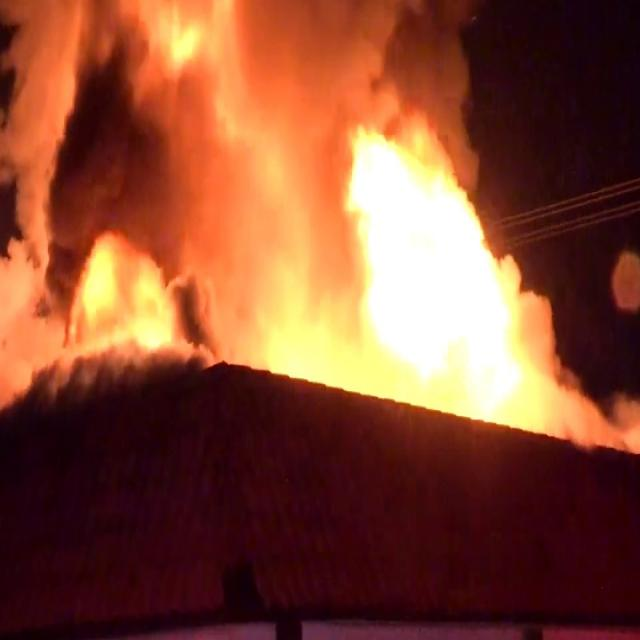fire: (368, 193, 504, 382)
